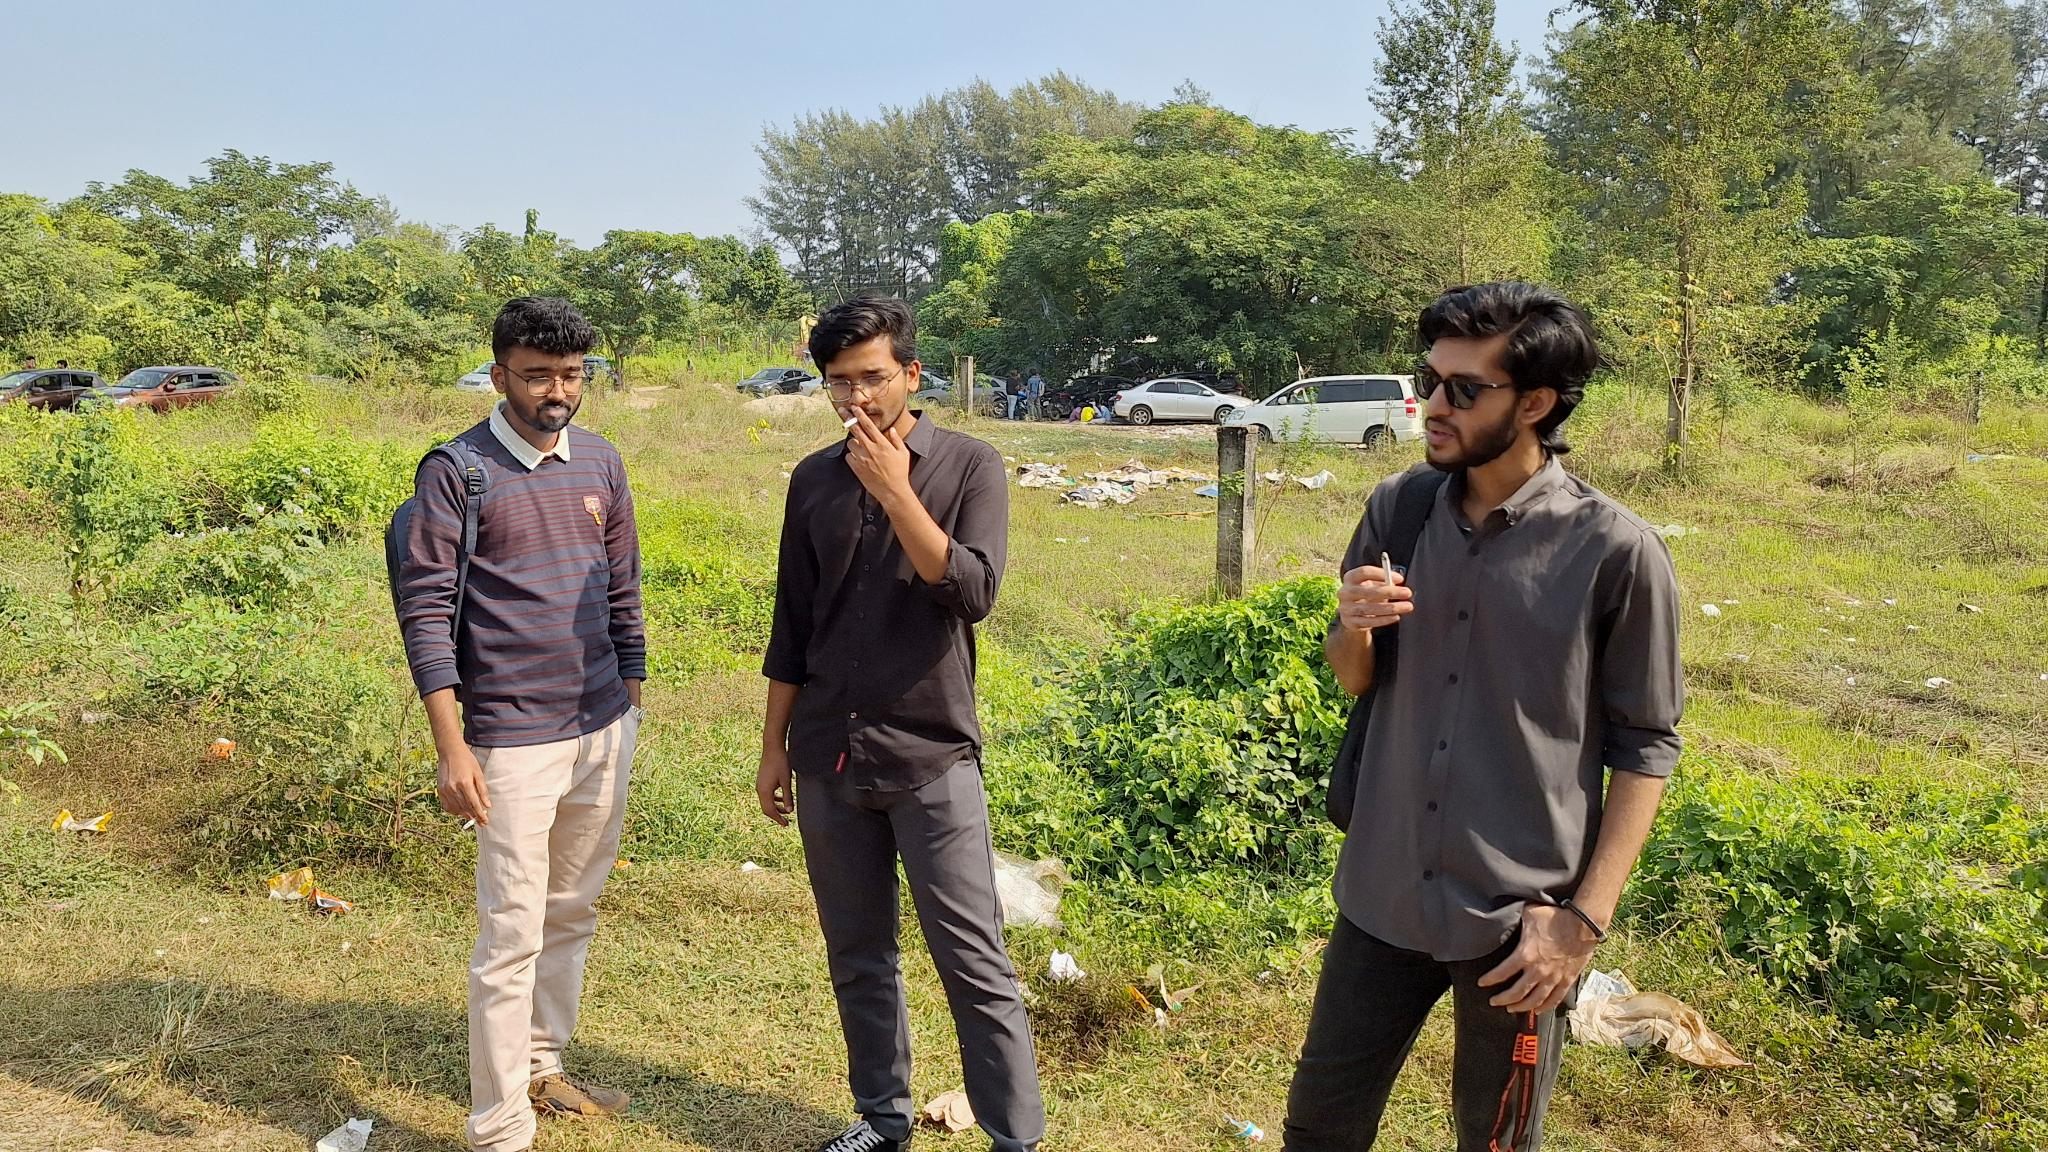cigarette: (1377, 547, 1397, 588), (461, 810, 489, 833), (840, 415, 858, 430)
smoker: (1279, 280, 1687, 1152), (753, 293, 1048, 1152), (384, 293, 648, 1152)
